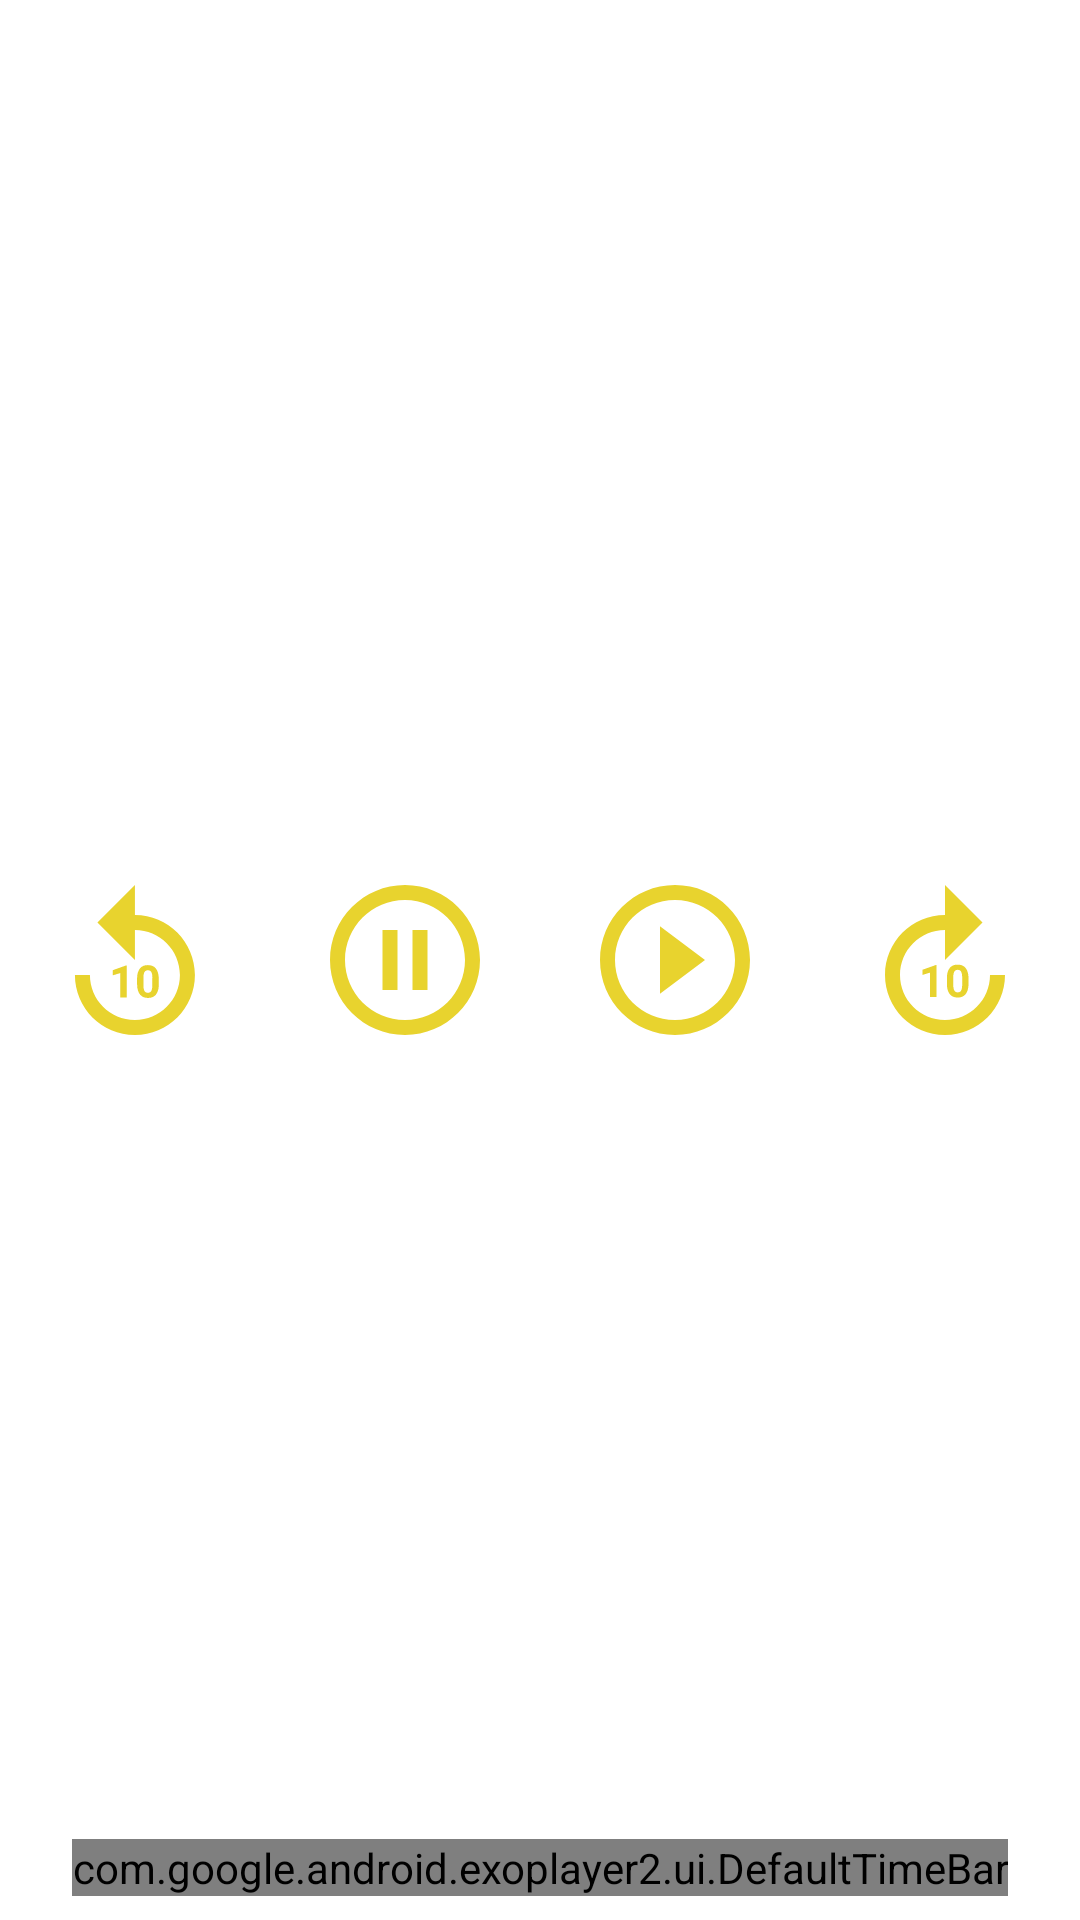

Screen size 1080px x 1920px. Icon name, then its box in pixels as (x1,y1,x2,y2):
exo forward: (885,885,1005,1035)
exo pause: (330,885,480,1035)
exo play: (600,885,750,1035)
exo rewind: (75,885,195,1035)
